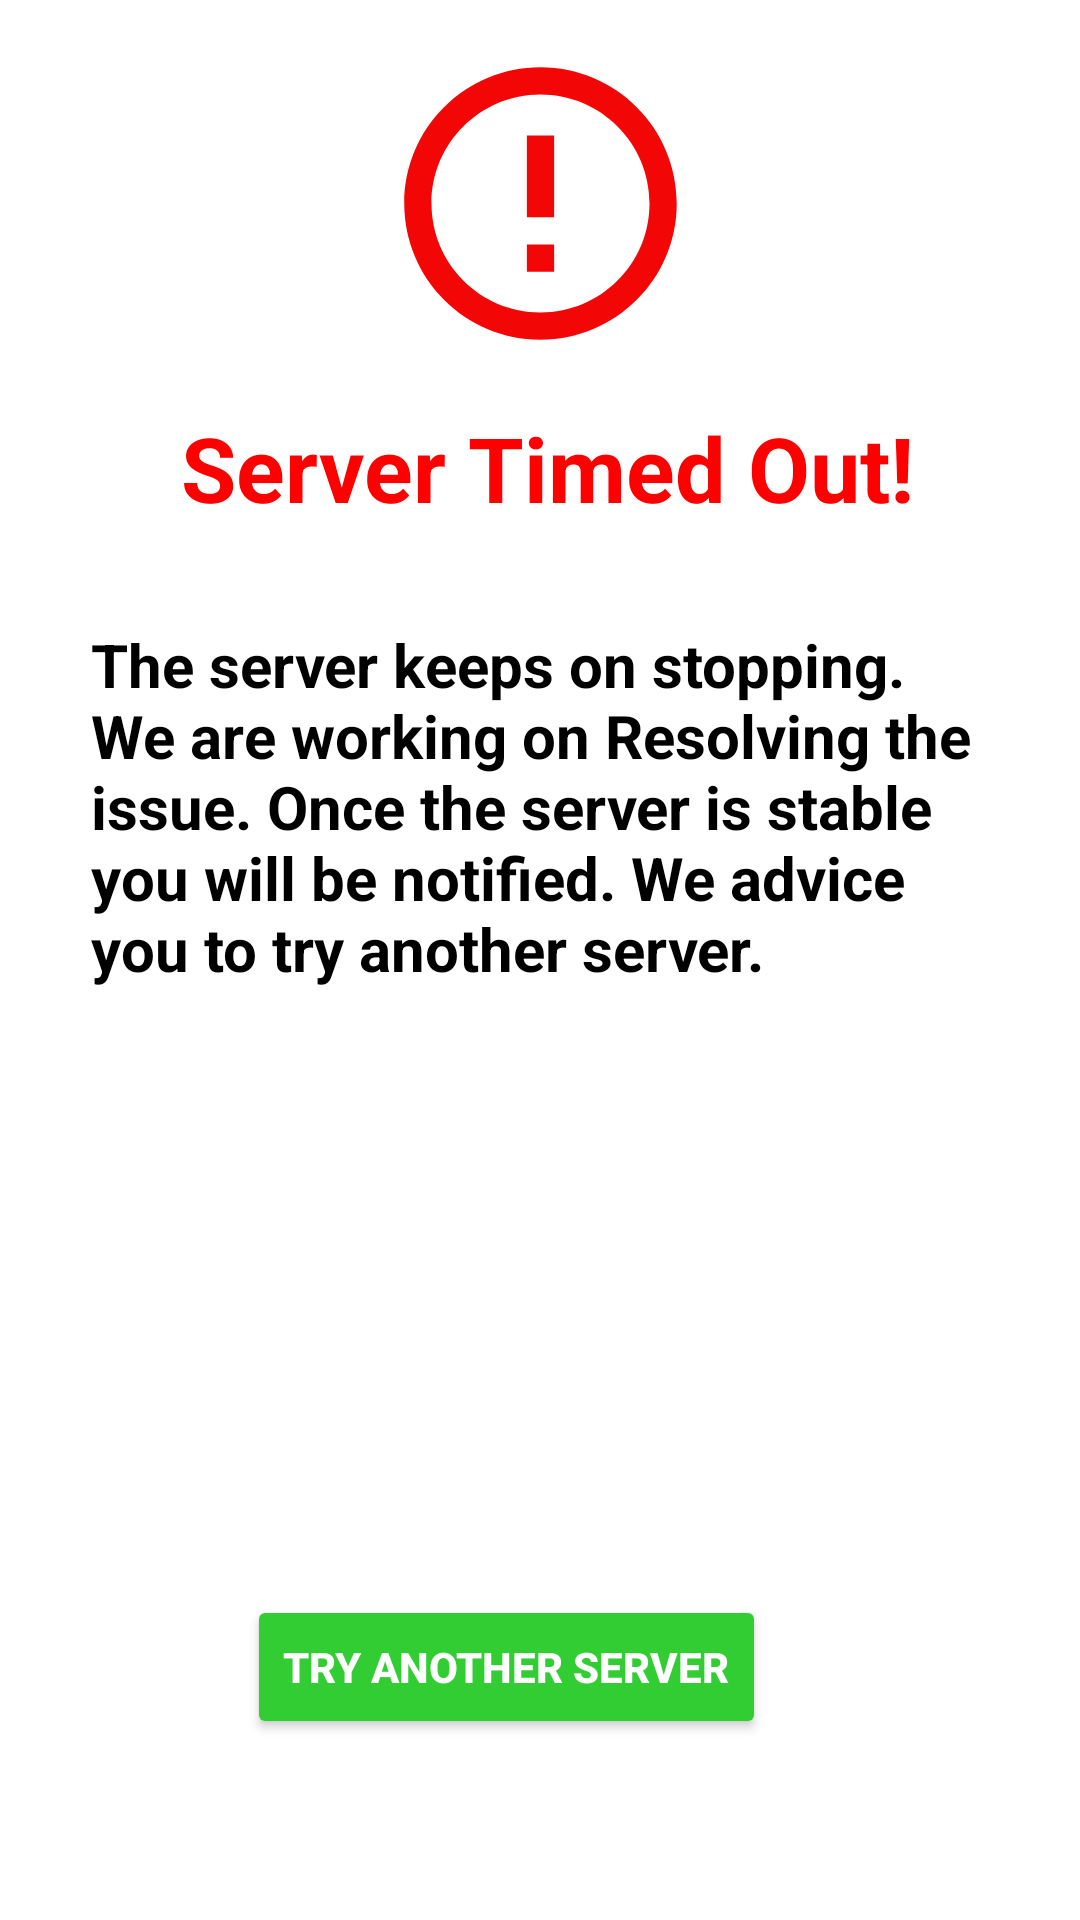

Icons on this 1080 × 1920 Android screen, each with its box as bbox(x1, y1, x2, y2):
error: bbox(404, 67, 677, 340)
